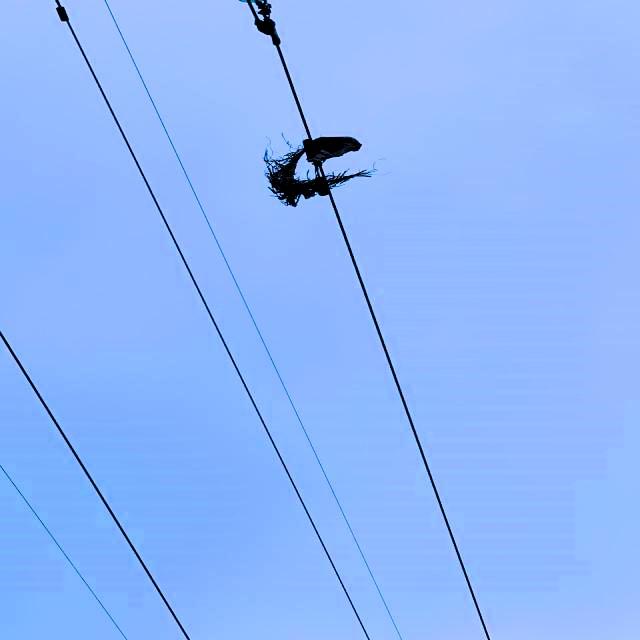wire foreign body: (244, 129, 377, 210)
